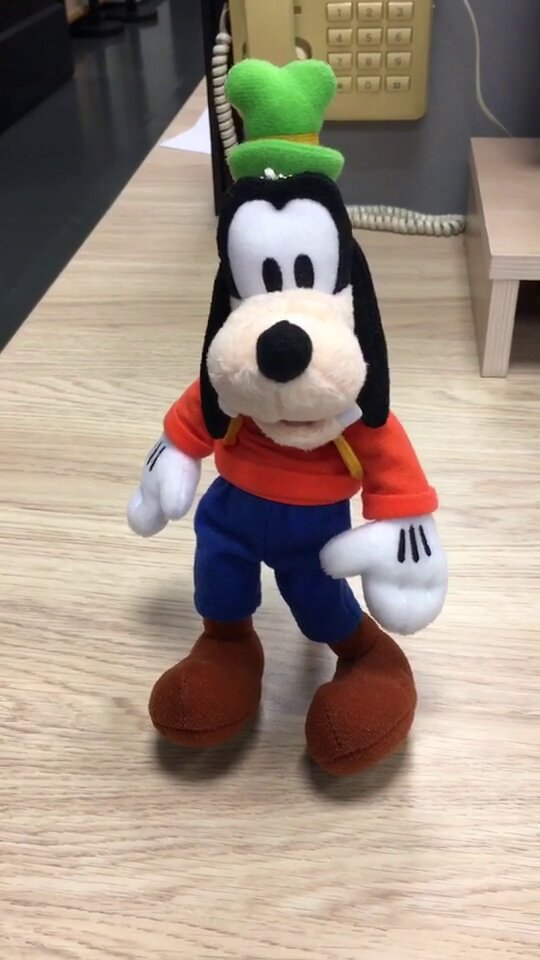goofy: (122, 56, 453, 782)
